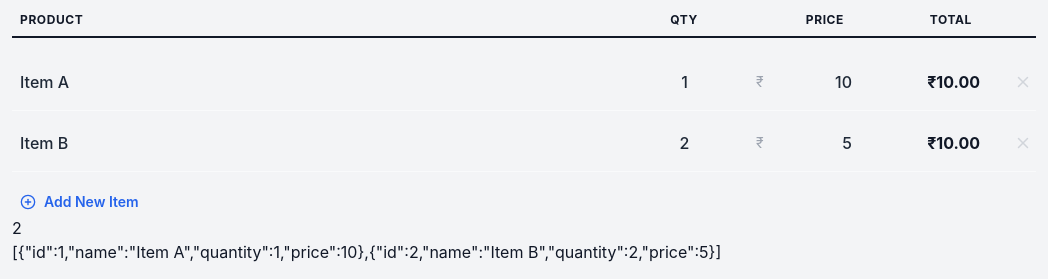
Test: PR - Product Row Logic › PR-04: should remove the row and recalculate total when X is clicked
This screenshot has width=1048, height=279.
Expected: the text with test id "product-count" reads "2", [12,218,22,238]
Click the 1st button titled "Remove item" at (1023, 82), box [1010,69,1036,95]
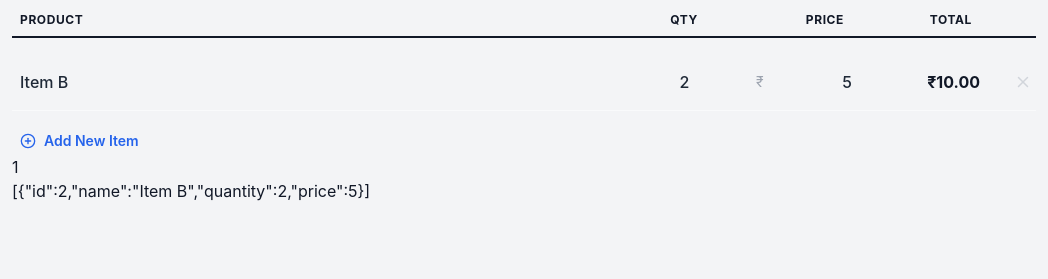
Expected: the text with test id "product-count" reads "1", [12,157,18,177]
